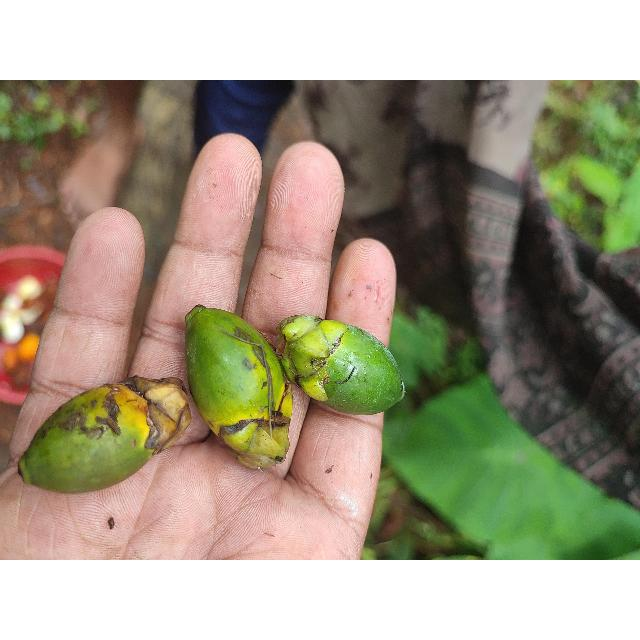damaged: (18, 377, 200, 496), (184, 307, 293, 471), (279, 317, 404, 417)
